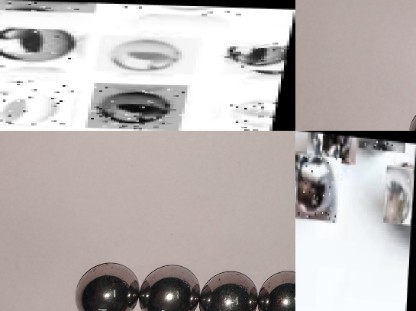ironball: (91, 82, 191, 129), (97, 34, 202, 73), (0, 24, 86, 70), (0, 79, 81, 125), (74, 257, 138, 309), (295, 151, 340, 223), (140, 260, 202, 309), (199, 262, 259, 309), (221, 89, 282, 130), (224, 40, 289, 74), (384, 163, 414, 223), (114, 3, 255, 15), (262, 259, 292, 309), (314, 132, 349, 173), (0, 0, 96, 12), (358, 136, 405, 150), (265, 6, 295, 12)
